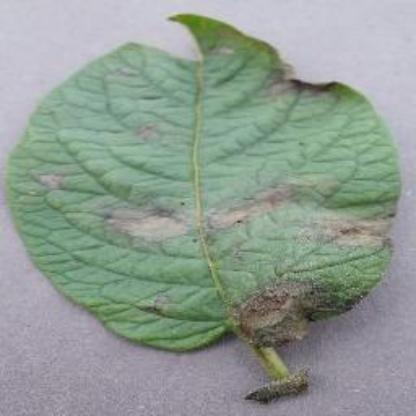Late-Blight: (7, 22, 401, 378)
